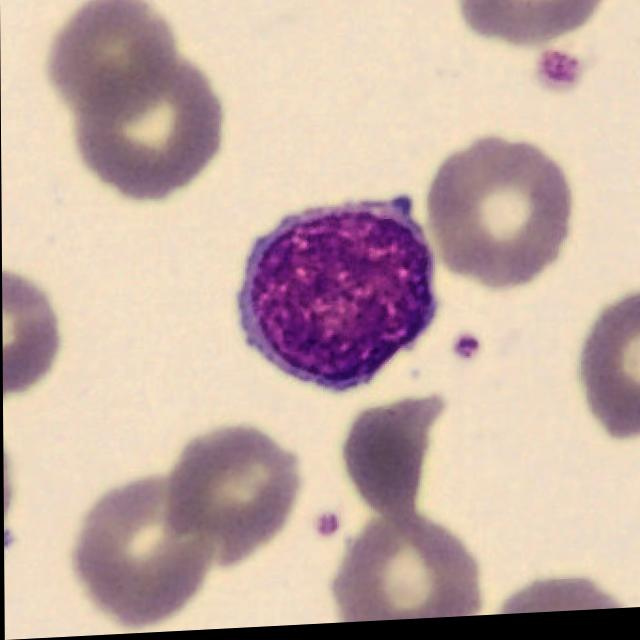Linfocito: (235, 202, 437, 395)
